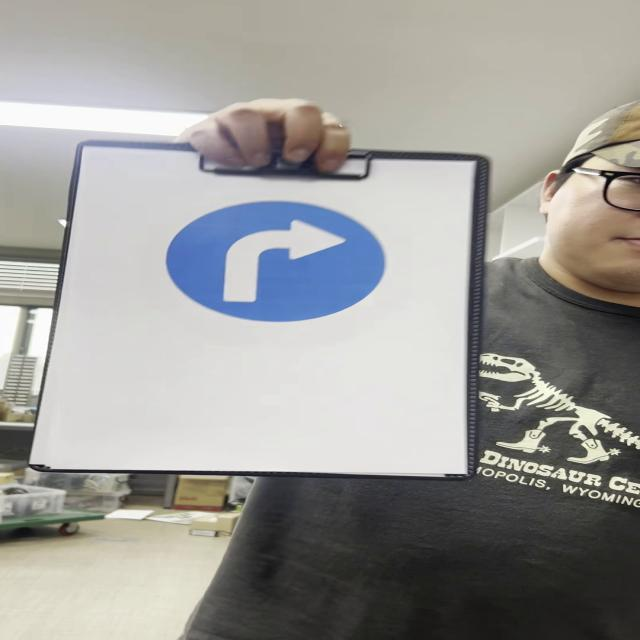right: (167, 202, 389, 323)
